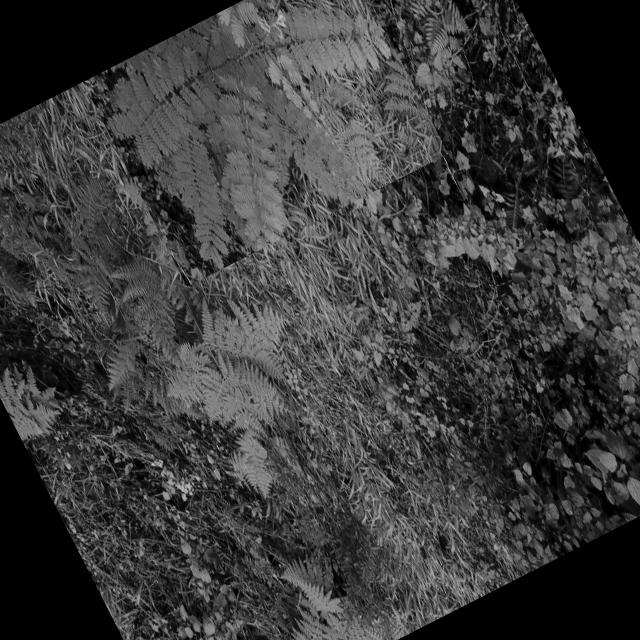Mysore-Thorn-Weed: (83, 0, 448, 286)
